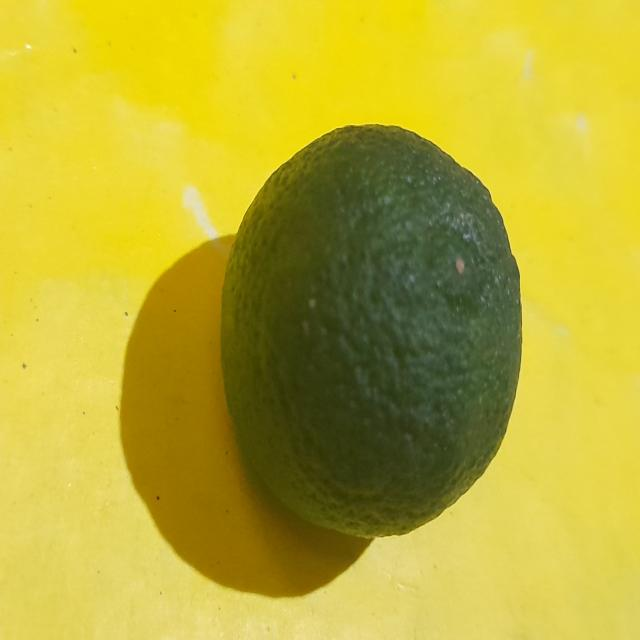heathy: (218, 119, 523, 542)
